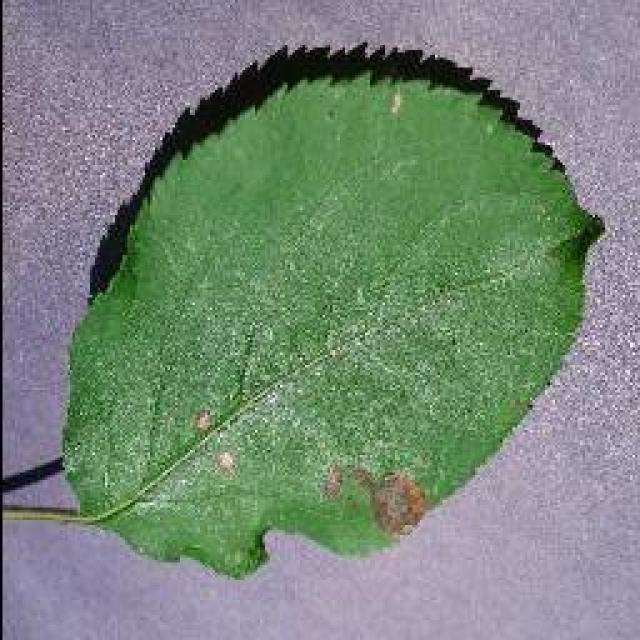Black_rot: (5, 38, 605, 580)
